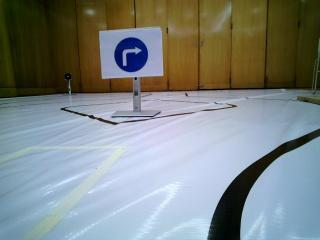right: (102, 29, 162, 77)
